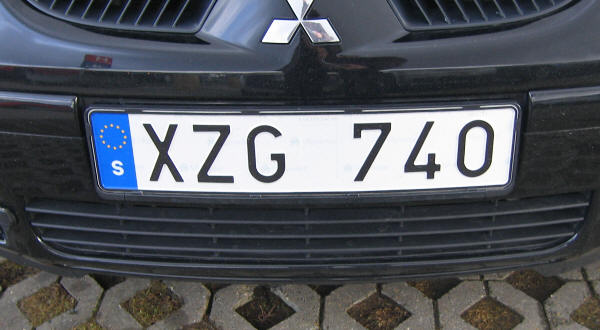license_plate: (86, 106, 517, 190)
